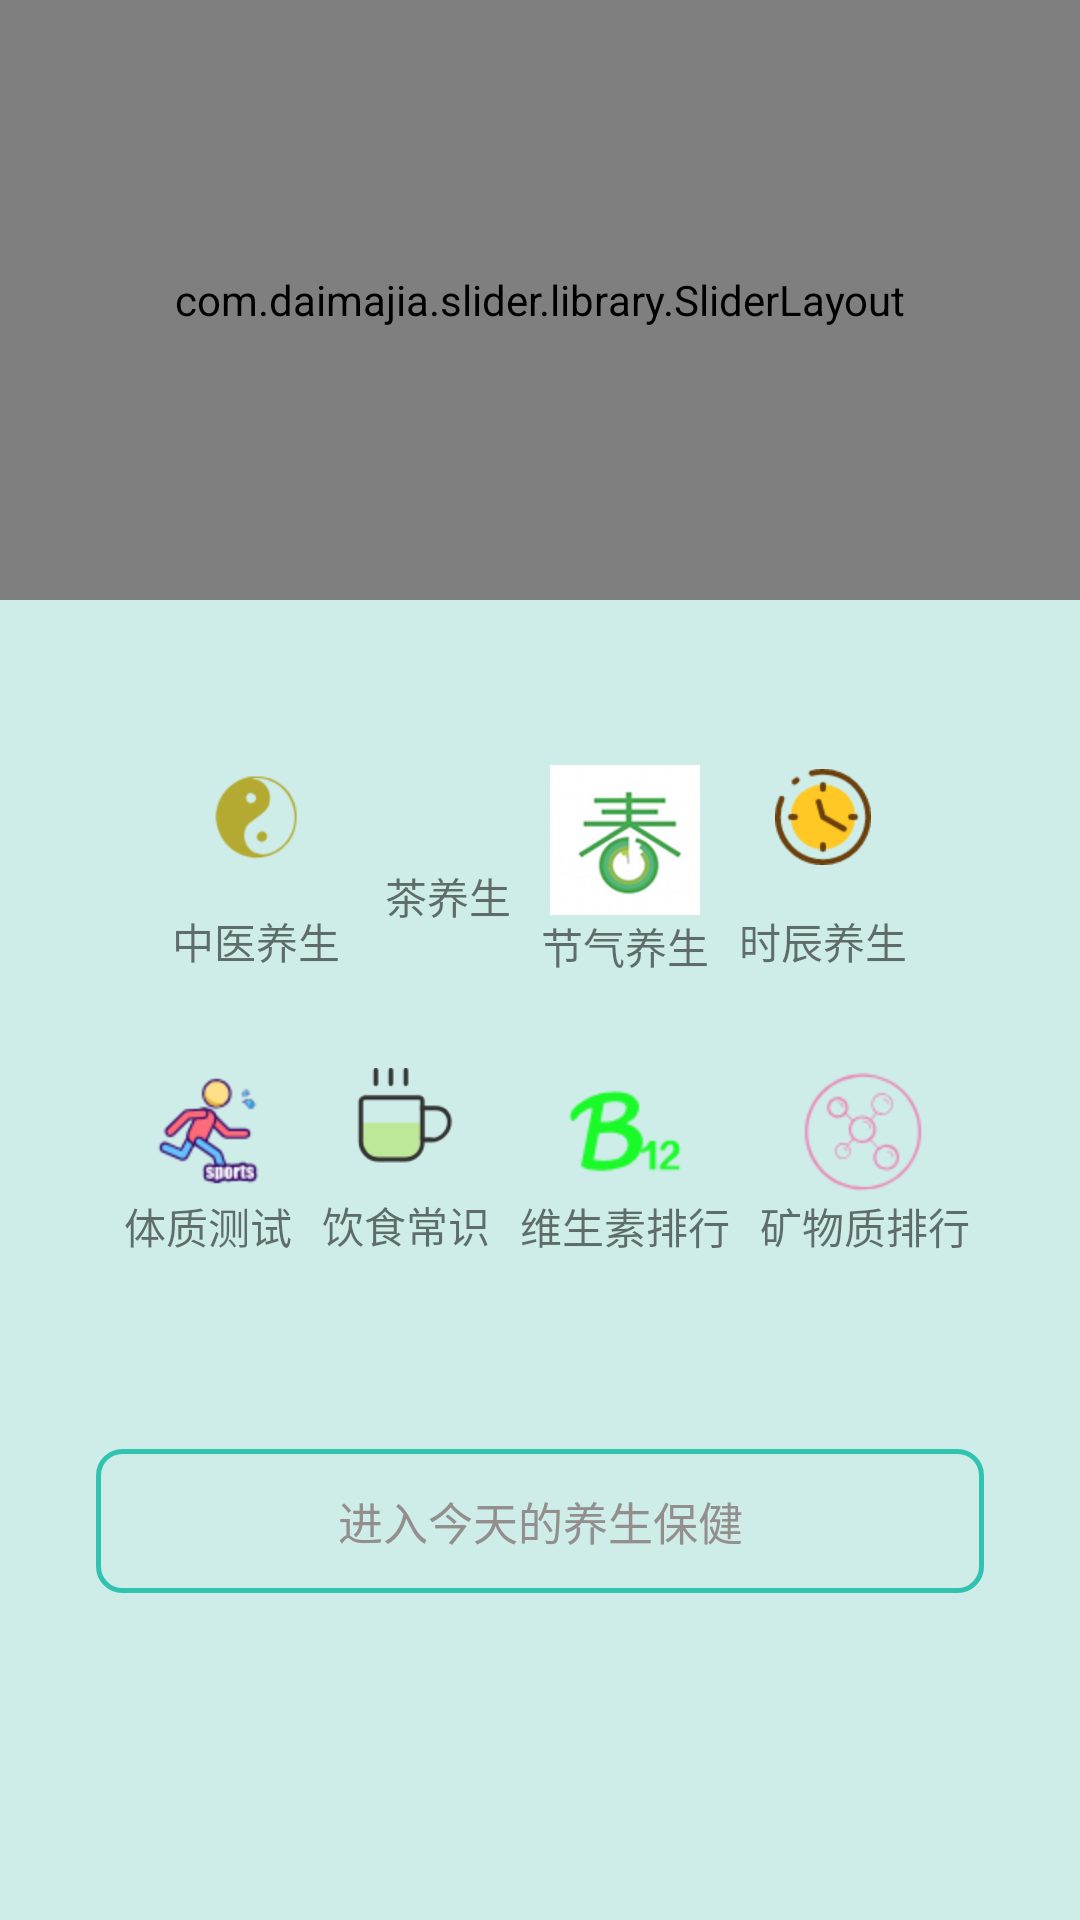

Where to tap for icons on this 1080w x 1920h app screen, as (x,y):
time: (823,817)
zhyi: (256,817)
